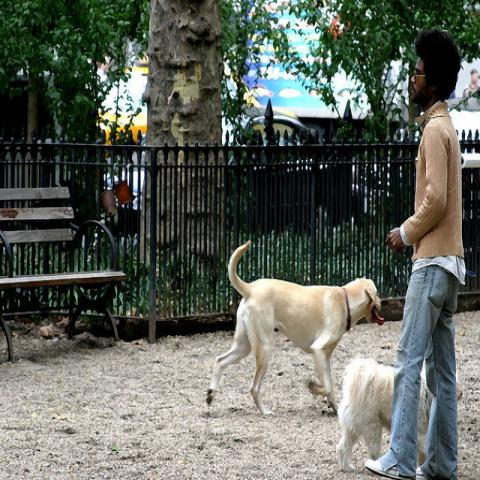car: (104, 134, 147, 209), (253, 115, 315, 145)
